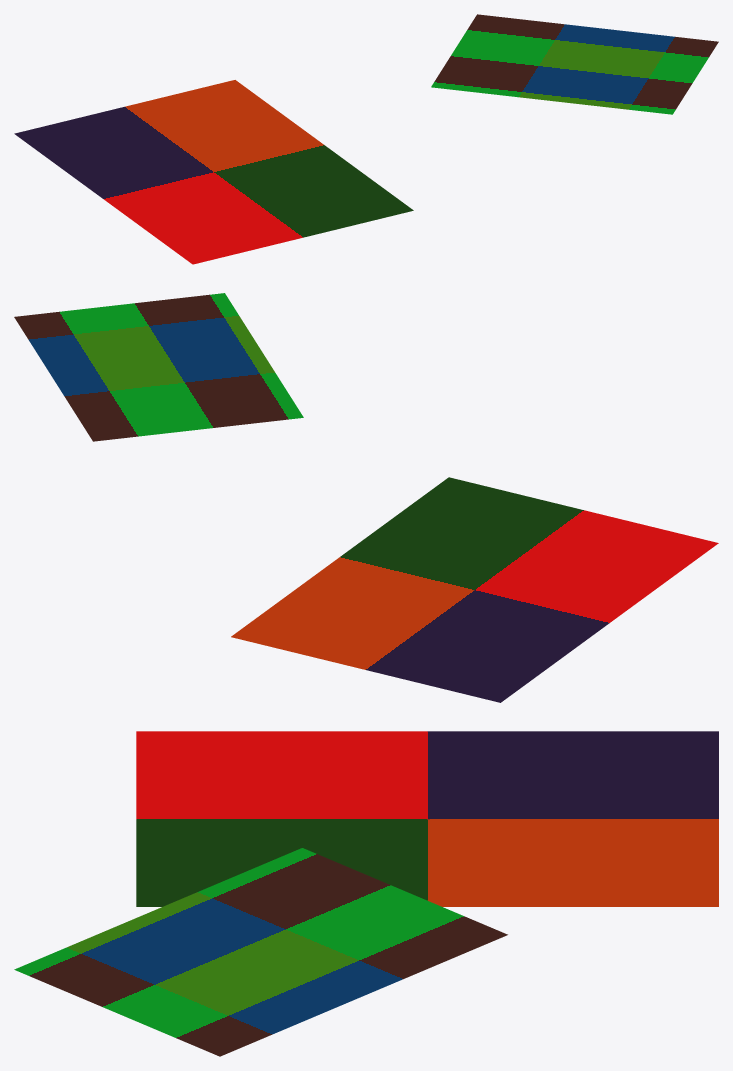
The model's file is transformed_scene_texture.gltf.
3 renders of one model, top to bottom at view 1: azimuth 30°, elevation 25°; view 2: azimuth 150°, elevation 25°; view 3: azimuth 270°, elevation 25°, orthographic. The views are drawn at different scales.
Parts seen in each view (by area): view 1: left_static, right_reflected_raised; view 2: left_static, right_reflected_raised; view 3: left_static, right_reflected_raised.
Boxes of the visible parts, x1,y1,x2,y2 form: left_static: (14, 80, 413, 264); right_reflected_raised: (431, 14, 718, 114); left_static: (231, 477, 718, 702); right_reflected_raised: (14, 293, 303, 441); left_static: (136, 731, 718, 906); right_reflected_raised: (14, 848, 507, 1056).
Bounding box in the file's own units: 1.25 × 0.15 × 0.847.
2 materials, 2 textured.
